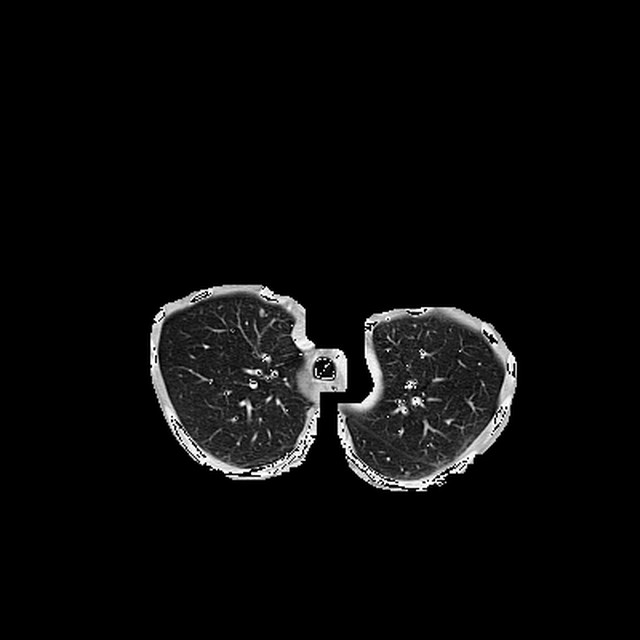PN: (258, 309, 264, 315)
